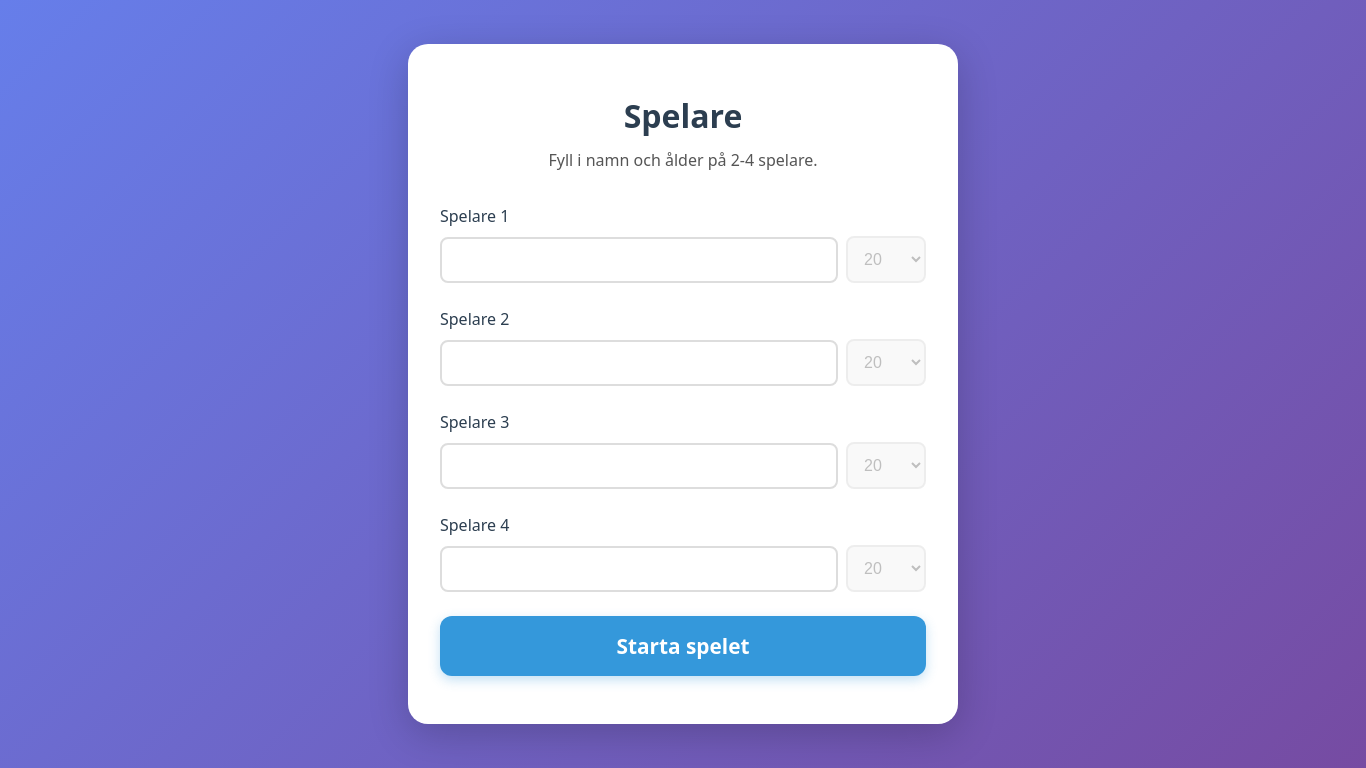
Test: PlayerRegistration › duplicate name validation › should show error when three players have duplicate names
In the field labelled "Spelare 1": (639, 260) [440, 236, 838, 282], type "Anna"
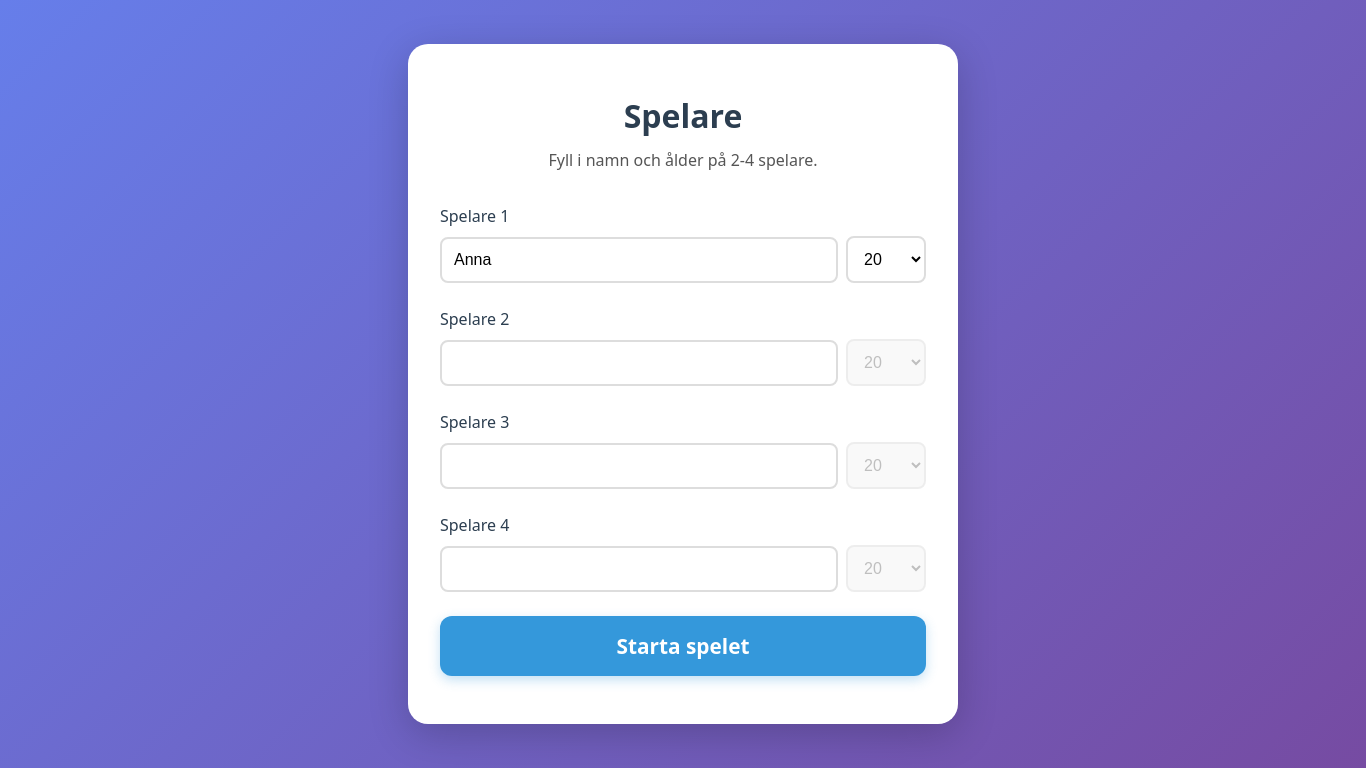
In the field labelled "Spelare 2": (639, 362) [440, 340, 838, 386], type "Bob"
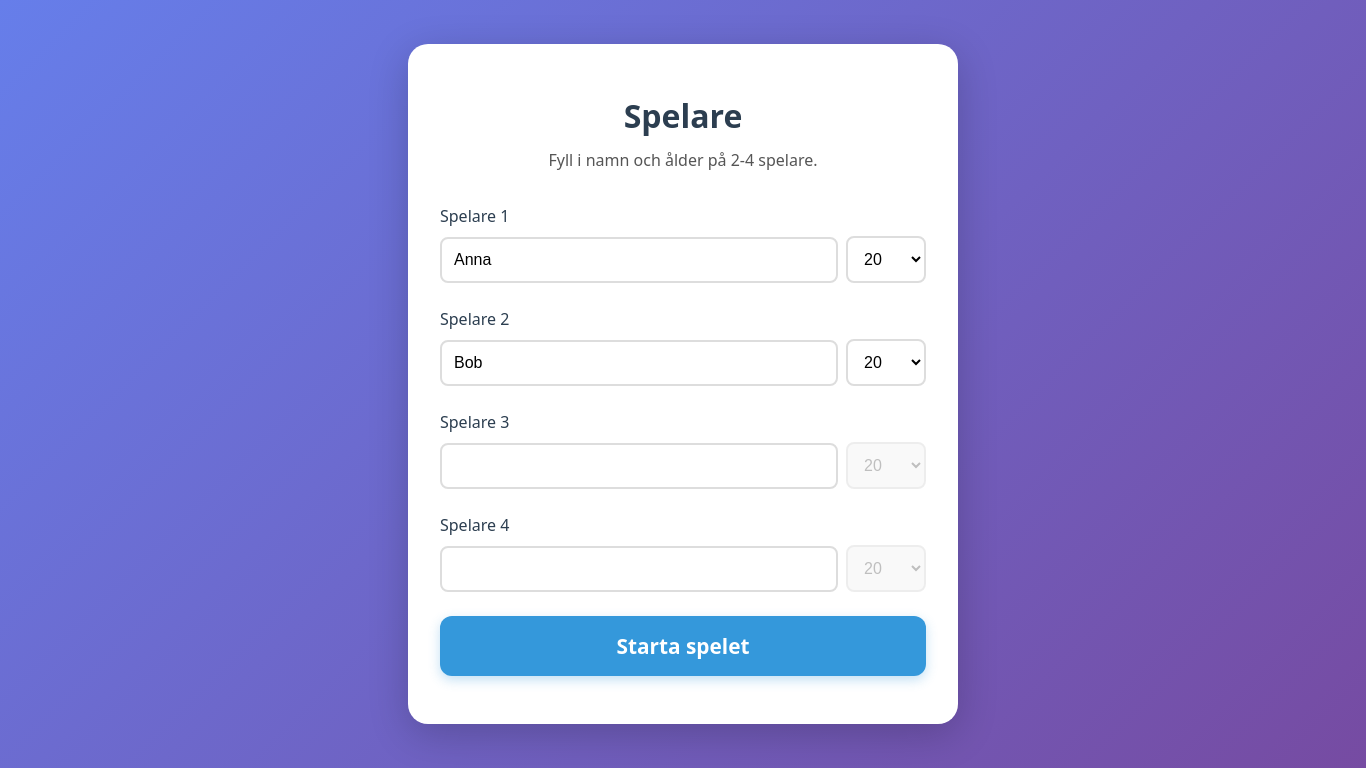
In the field labelled "Spelare 3": (639, 466) [440, 442, 838, 488], type "ANNA"
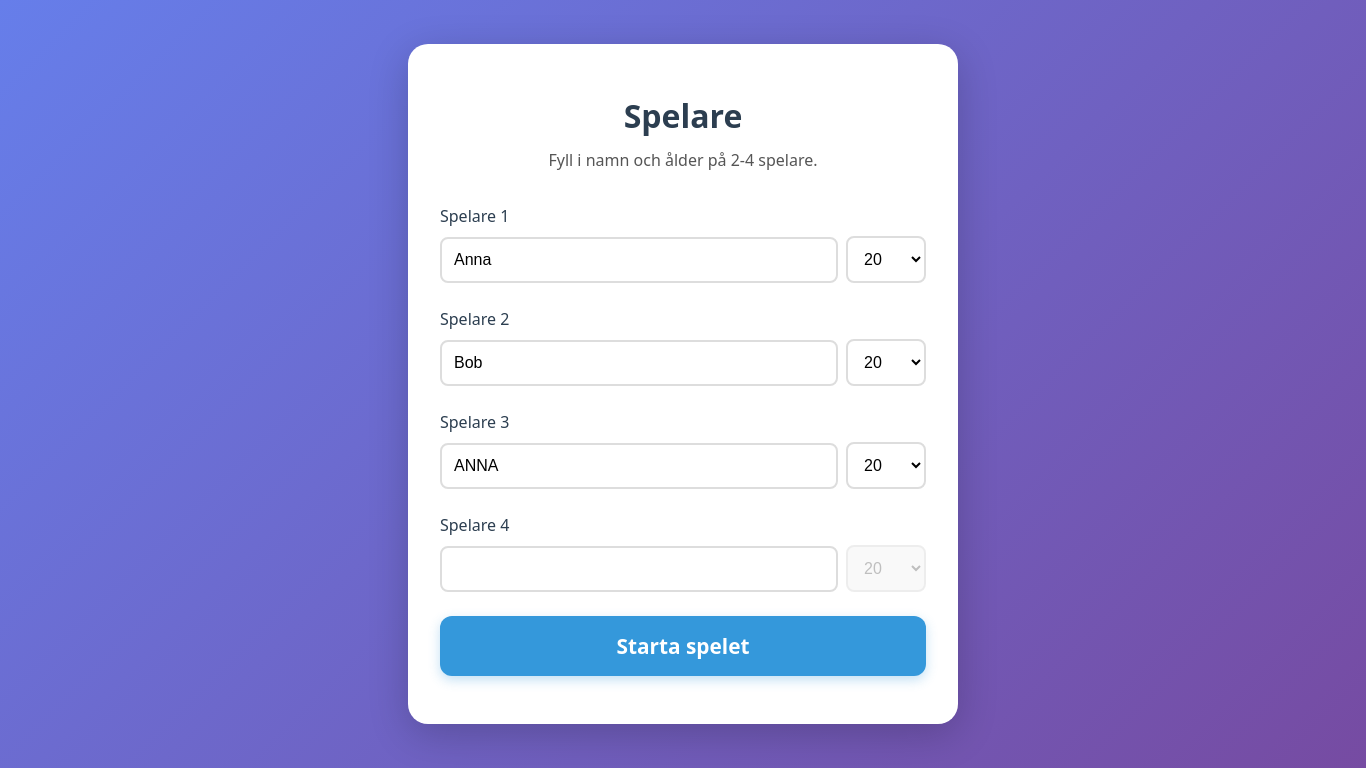
Click the button "Starta spelet": click(683, 646) [440, 616, 926, 676]
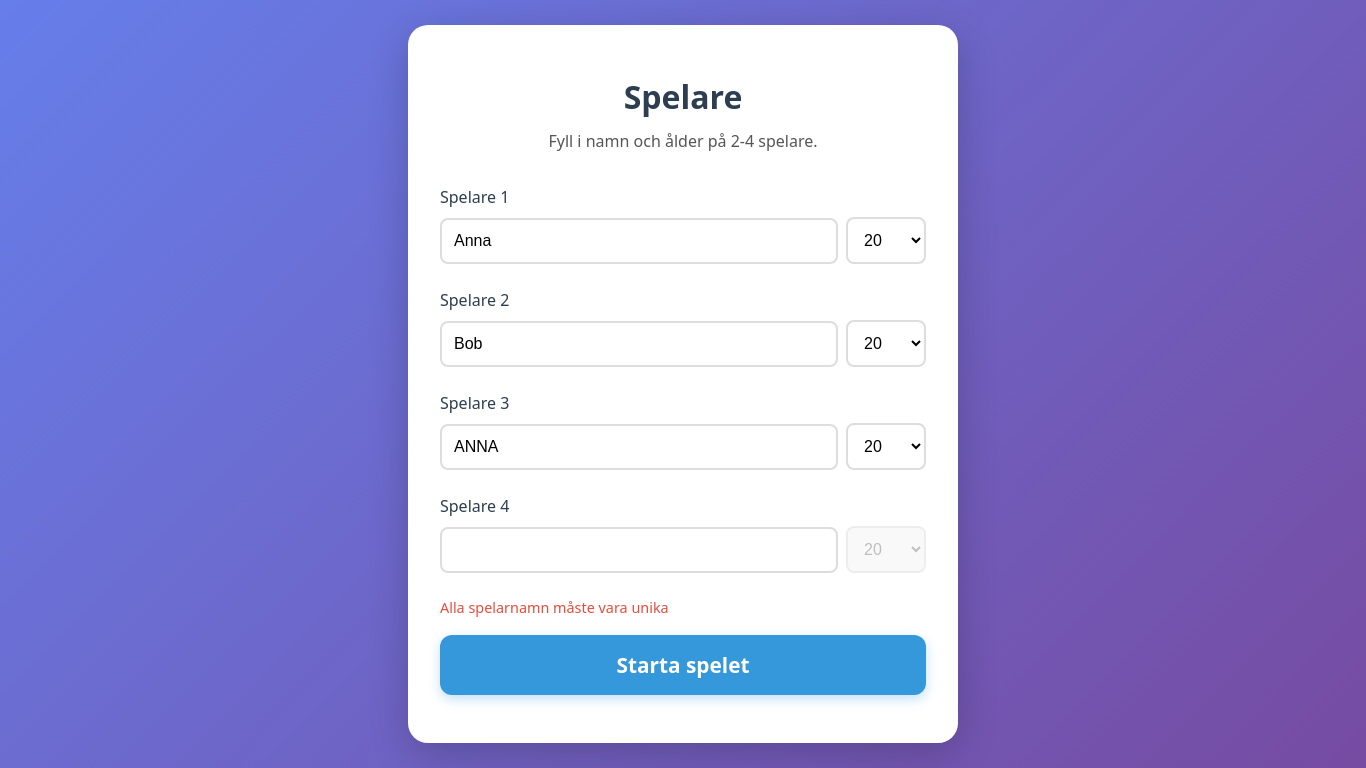
Check: the text "Alla spelarnamn måste vara unika" is shown, box [440, 598, 669, 617]
